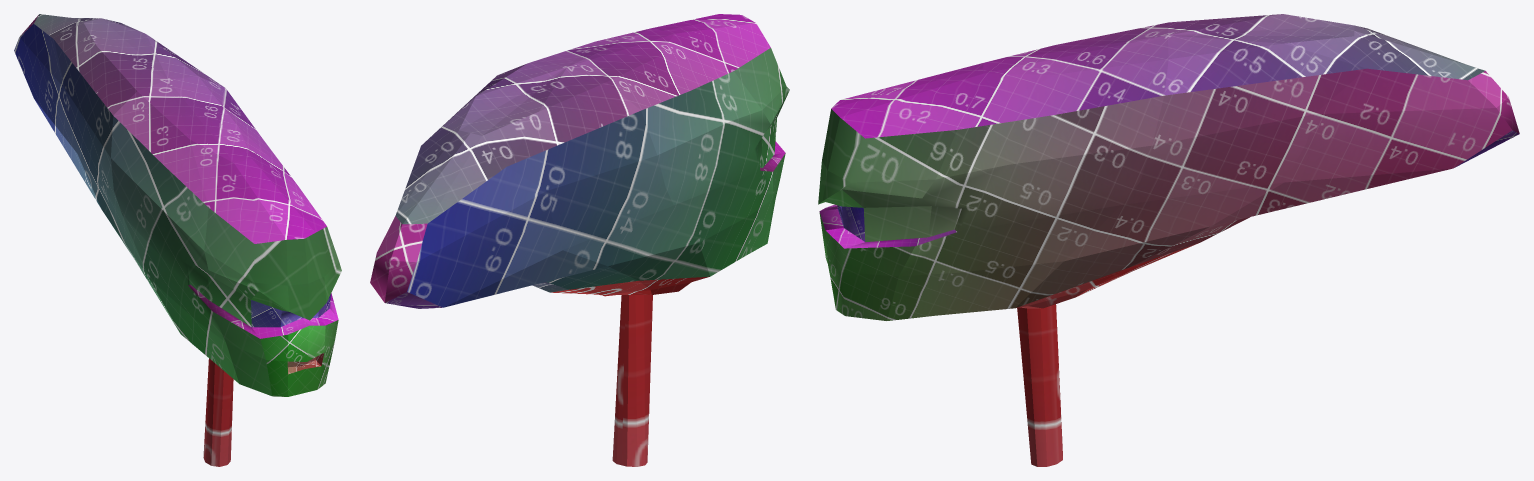
Rendered from robot_head_uv_mapped.obj.
3 renders of one model, left to right at view 1: azimuth 30°, elevation 25°; view 2: azimuth 150°, elevation 25°; view 3: azimuth 270°, elevation 25°, orthographic. The views are drawn at different scales.
Parts seen in each view (by area): view 1: group1_pCylinder1_pCylinder1 group2; view 2: group1_pCylinder1_pCylinder1 group2; view 3: group1_pCylinder1_pCylinder1 group2.
Part boxes in pixels (x1,y1,x2,y2): group1_pCylinder1_pCylinder1 group2: (14,14,341,466); group1_pCylinder1_pCylinder1 group2: (370,14,789,466); group1_pCylinder1_pCylinder1 group2: (818,14,1519,466).
Size of the model in its own units: 1.55 by 3.92 by 5.76.
1 material, 1 textured.
